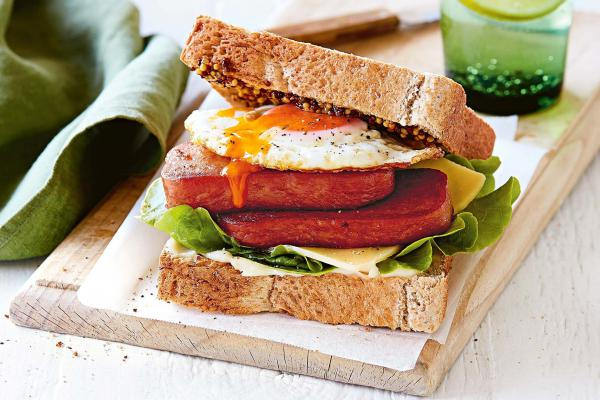fried egg: (183, 98, 450, 177)
slice of bread: (177, 12, 501, 153), (154, 227, 459, 339)
